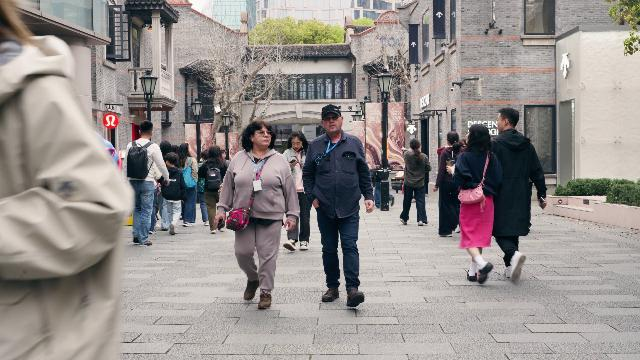person: (301, 104, 375, 308), (227, 110, 289, 314), (491, 107, 548, 282), (446, 124, 503, 285), (121, 120, 171, 246), (433, 131, 466, 237), (282, 131, 311, 251), (399, 138, 432, 226), (199, 137, 224, 232), (159, 153, 187, 235), (180, 142, 201, 230), (197, 150, 210, 226)
